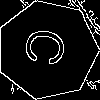C: (22, 25, 77, 71)
